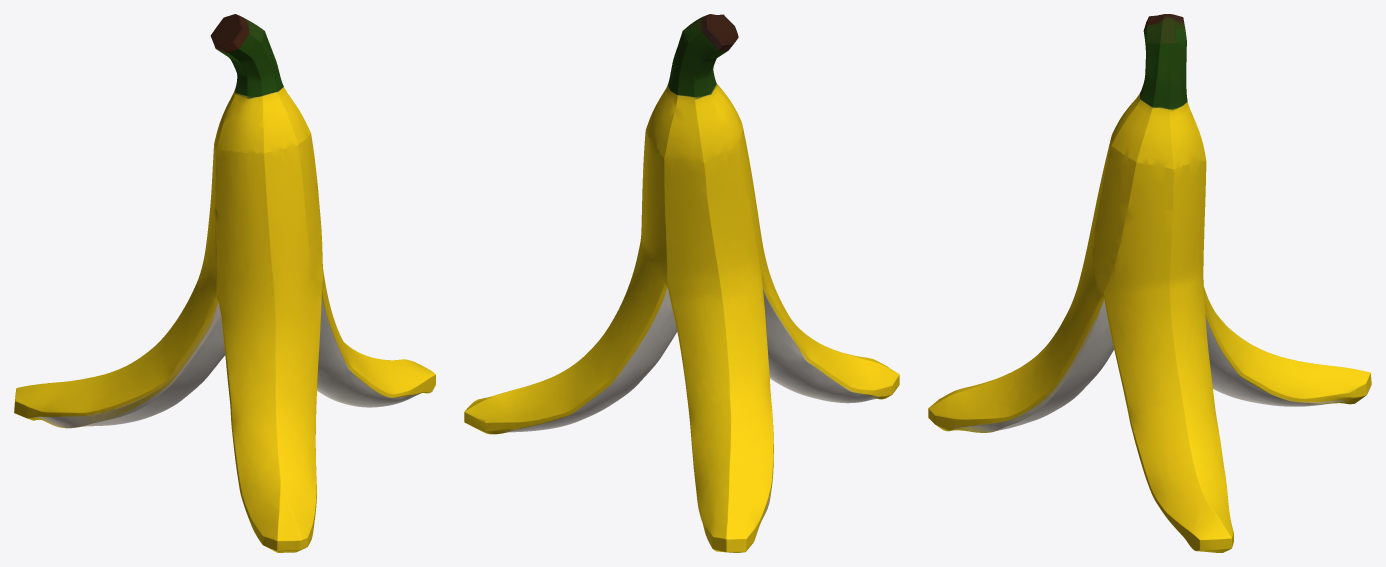
File: banana.glb
3 renders of one model, left to right at view 1: azimuth 30°, elevation 25°; view 2: azimuth 150°, elevation 25°; view 3: azimuth 270°, elevation 25°, orthographic.
Size of the model in its own units: 1.56 by 1.9 by 1.74.
Materials: 1 (1 with a texture image).
